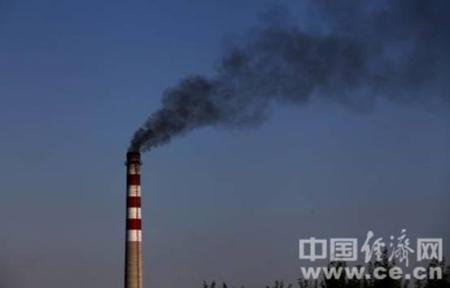dust: (123, 75, 243, 153)
